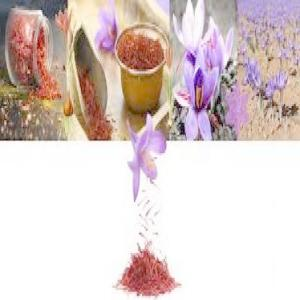Saffron: (124, 118, 166, 197), (174, 64, 214, 143), (92, 0, 120, 53)
